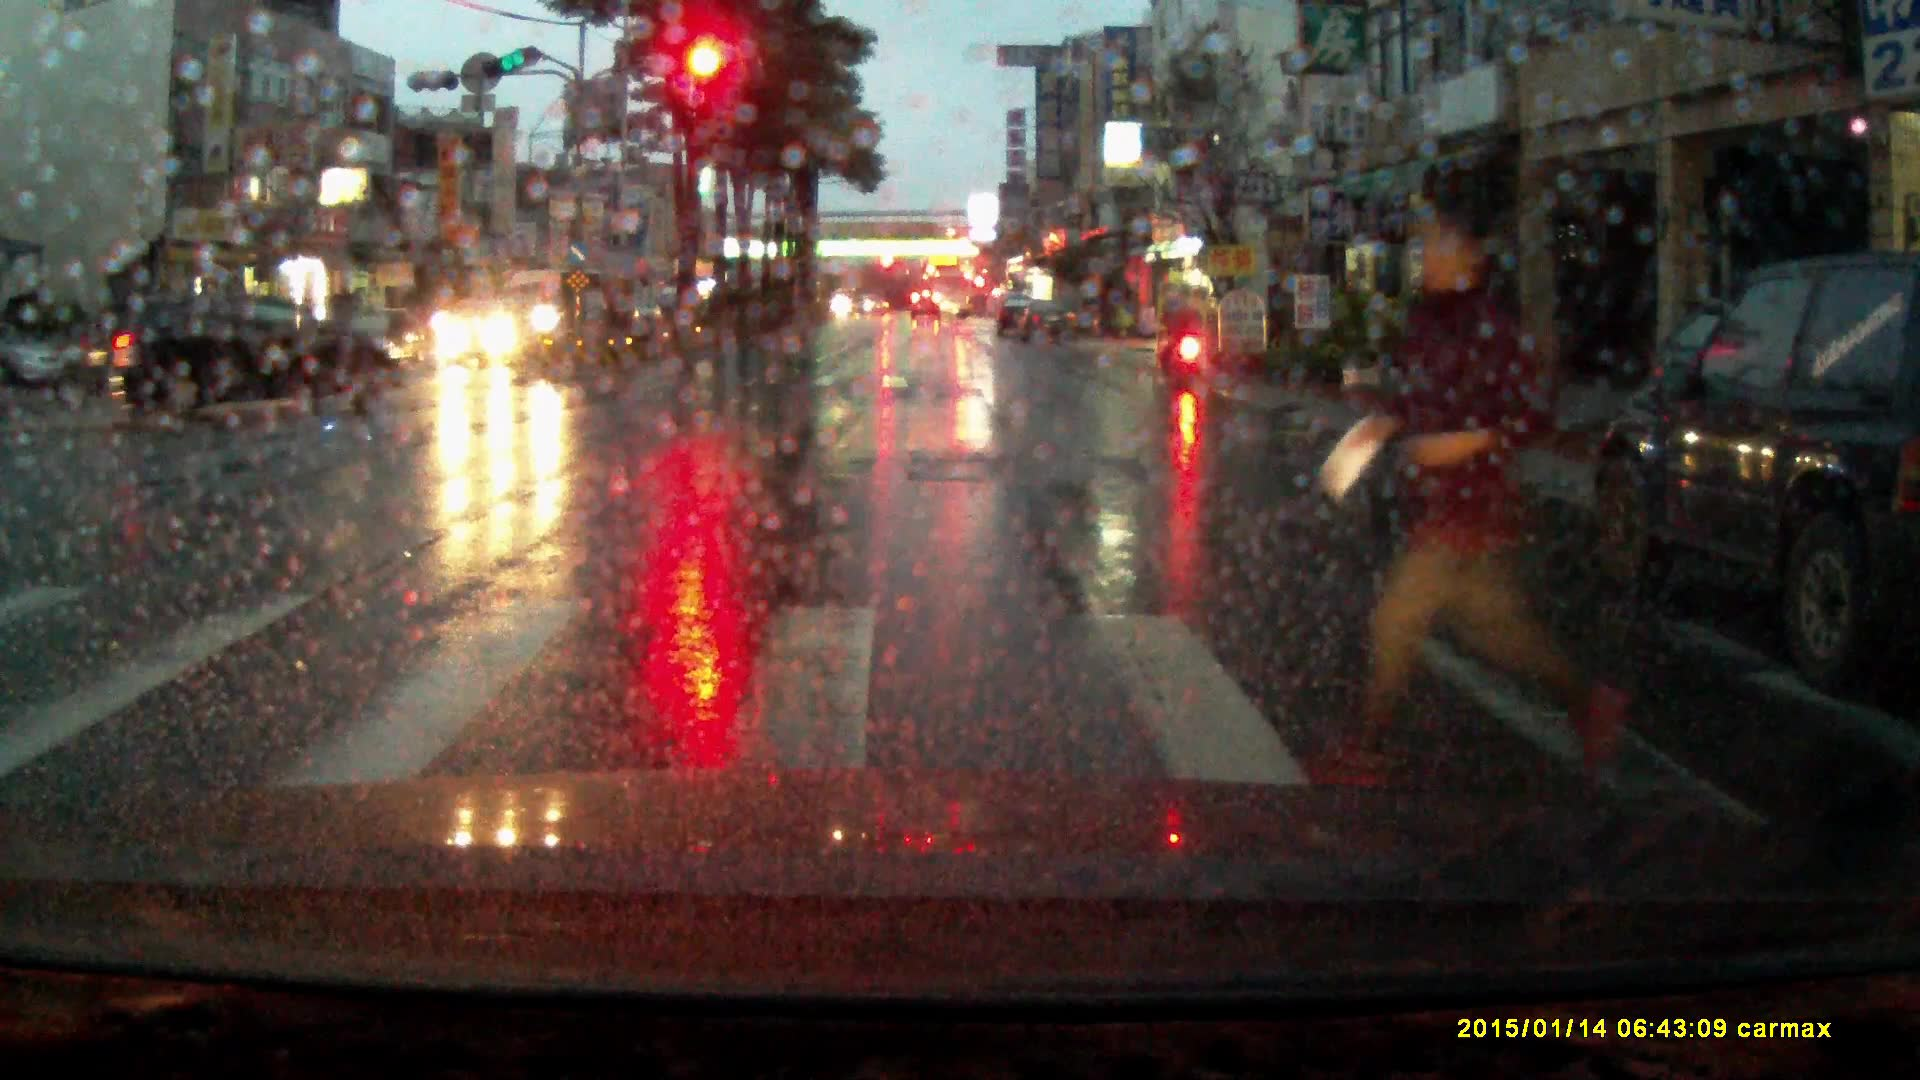pedestrian: (1303, 191, 1601, 803)
rider: (1158, 276, 1204, 387)
vehicle: (1582, 248, 1920, 683), (75, 296, 400, 430), (431, 298, 546, 370), (494, 268, 591, 341), (574, 288, 664, 340), (1017, 300, 1079, 346), (931, 264, 973, 321), (995, 295, 1030, 338), (911, 291, 943, 322)
